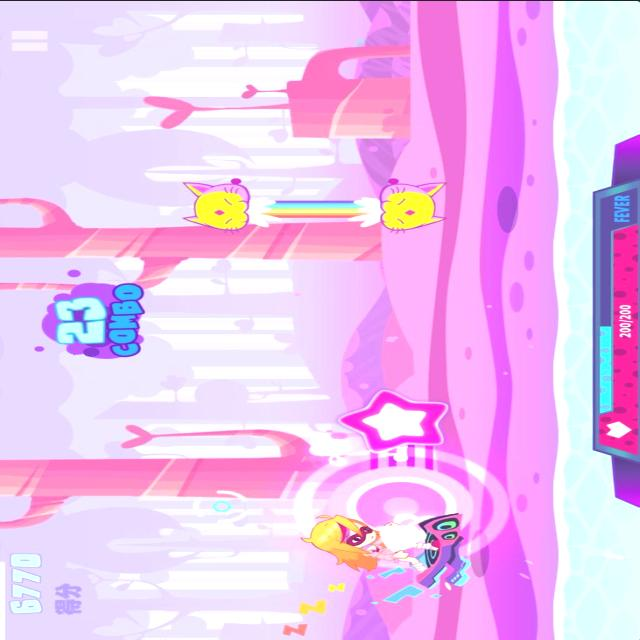hold: (332, 387, 461, 507)
shuangya: (172, 174, 462, 236)
